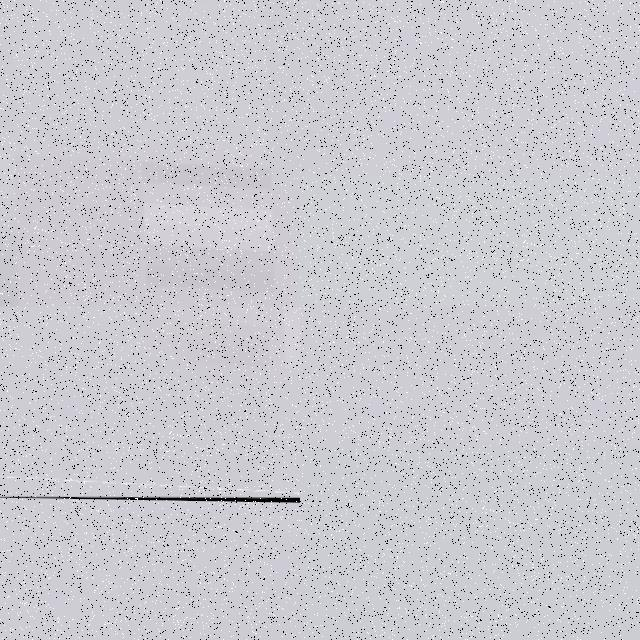drone: (0, 0, 300, 307), (0, 307, 300, 506)
